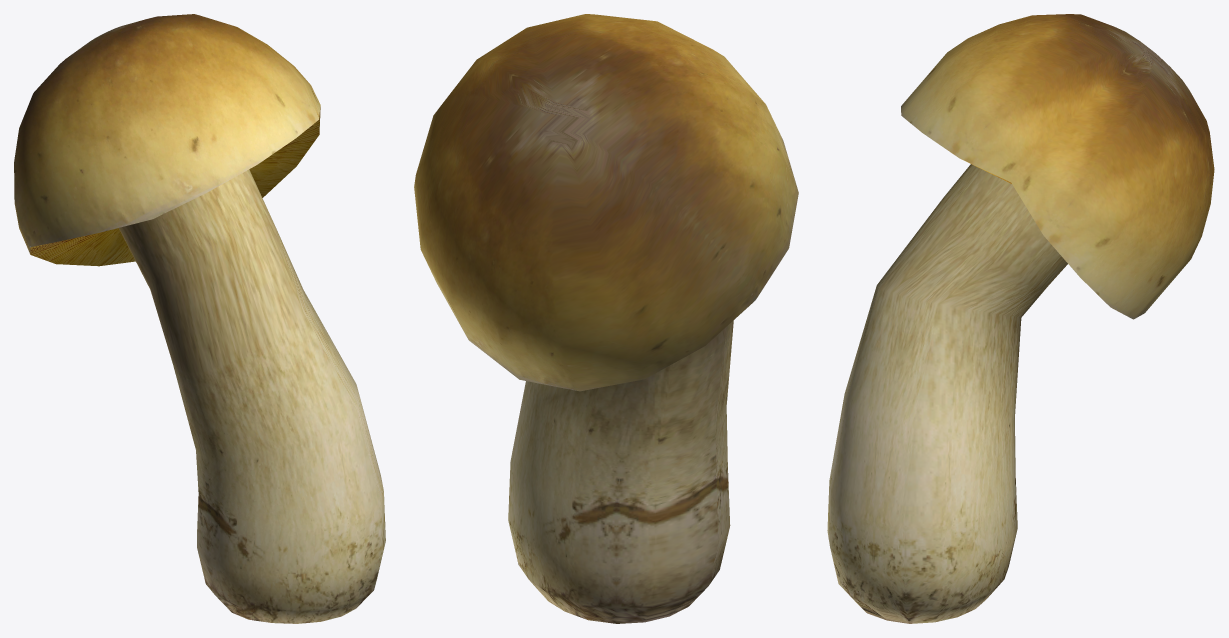
The model's file is toadstool1_a.obj.
3 renders of one model, left to right at view 1: azimuth 30°, elevation 25°; view 2: azimuth 150°, elevation 25°; view 3: azimuth 270°, elevation 25°, orthographic. The views are drawn at different scales.
Visible parts, largest first — view 1: toadstool1_a; view 2: toadstool1_a; view 3: toadstool1_a.
Boxes of the visible parts, box(x1,y1,x2,y2) form: toadstool1_a: box(14, 14, 385, 623); toadstool1_a: box(414, 14, 798, 623); toadstool1_a: box(827, 14, 1214, 623).
Size of the model in its own units: 12.77 by 23.02 by 14.91.
1 material, 1 textured.
